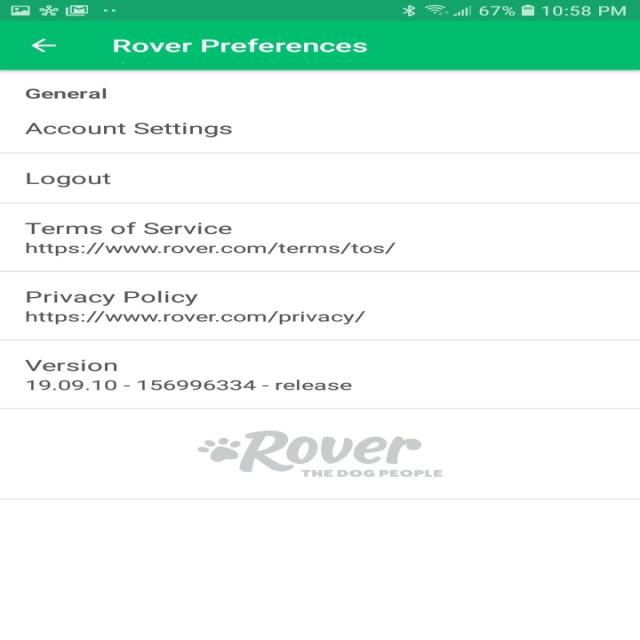Icon: (30, 38, 57, 53)
Image: (196, 430, 442, 477)
Text: (24, 242, 397, 256), (24, 310, 366, 324), (113, 38, 367, 53), (26, 379, 352, 390), (24, 122, 232, 137), (25, 290, 198, 307), (25, 222, 232, 235), (26, 172, 111, 188), (24, 359, 118, 372), (25, 88, 107, 100)
